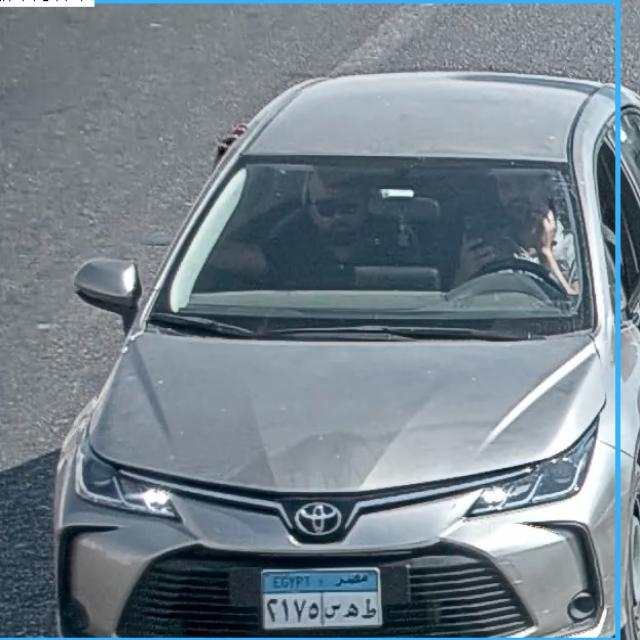windshield: (163, 154, 592, 316)
